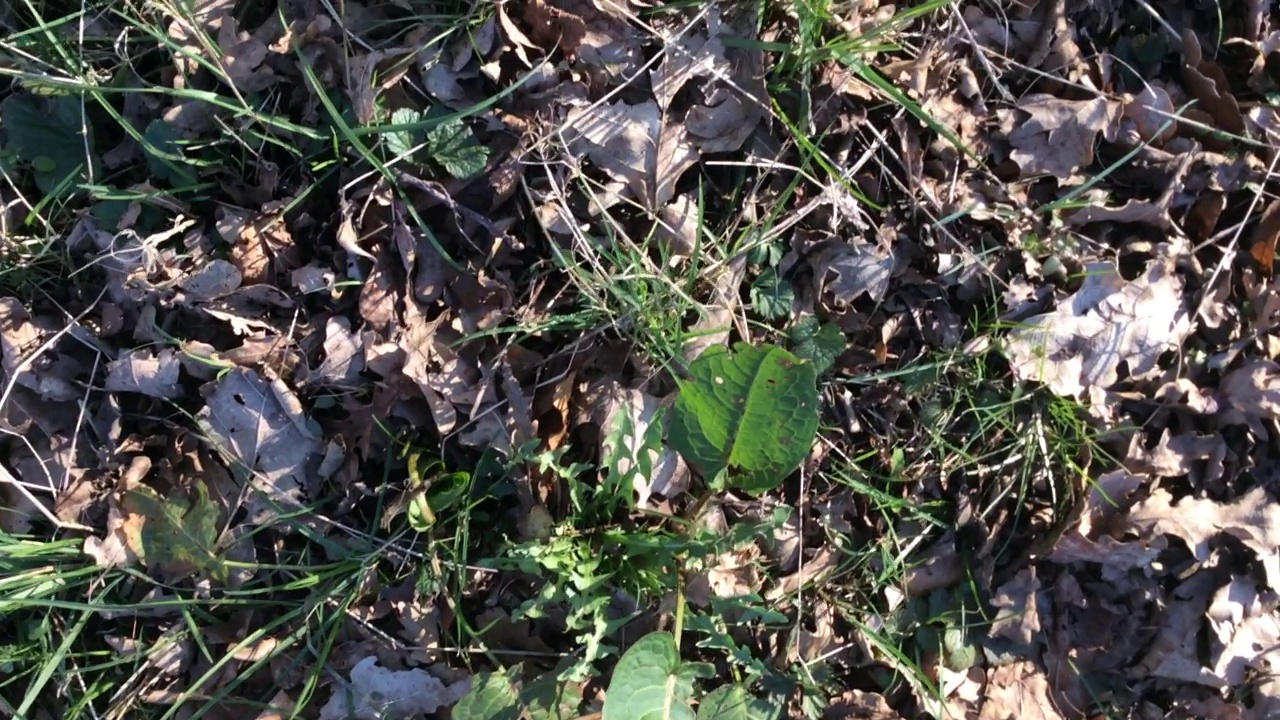rumex: (452, 346, 819, 720)
